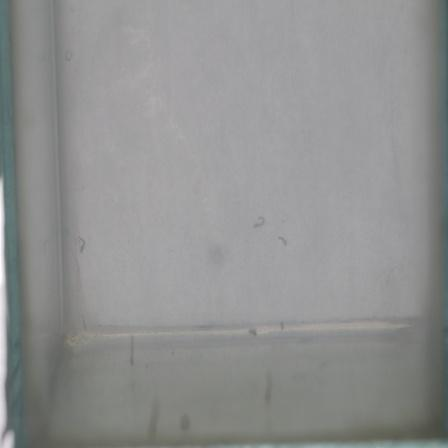Jentik-Nyamuk: (123, 331, 138, 368), (73, 231, 91, 259), (247, 212, 269, 232)
